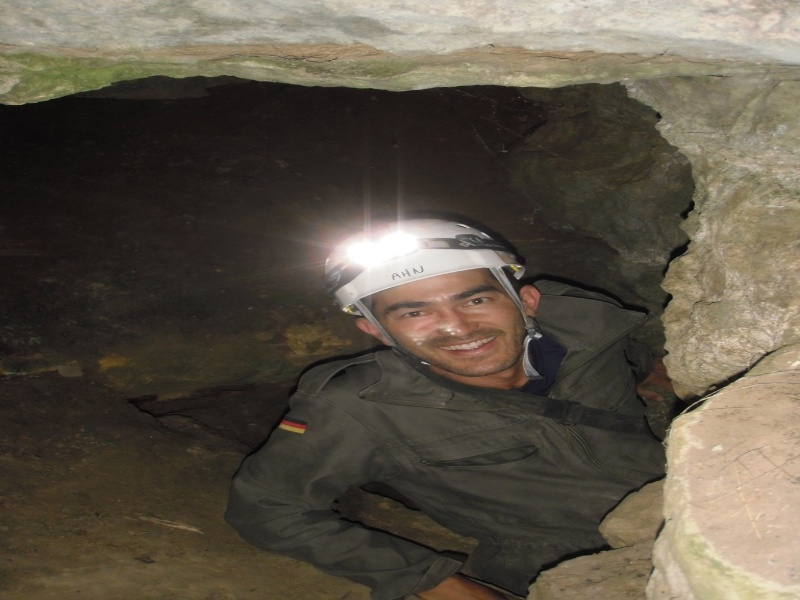Baret: (324, 219, 527, 307)
